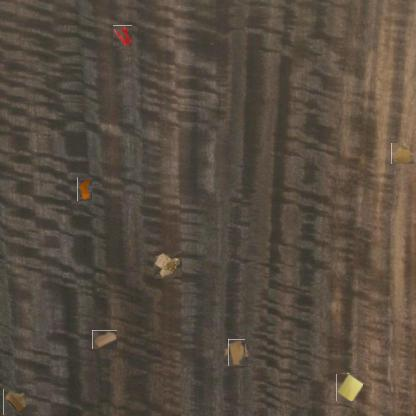dirty: (154, 251, 182, 279), (336, 373, 363, 401), (3, 389, 28, 415), (226, 341, 247, 364), (92, 330, 117, 349), (77, 177, 92, 201)
liquid: (392, 142, 414, 165), (112, 25, 132, 46)
